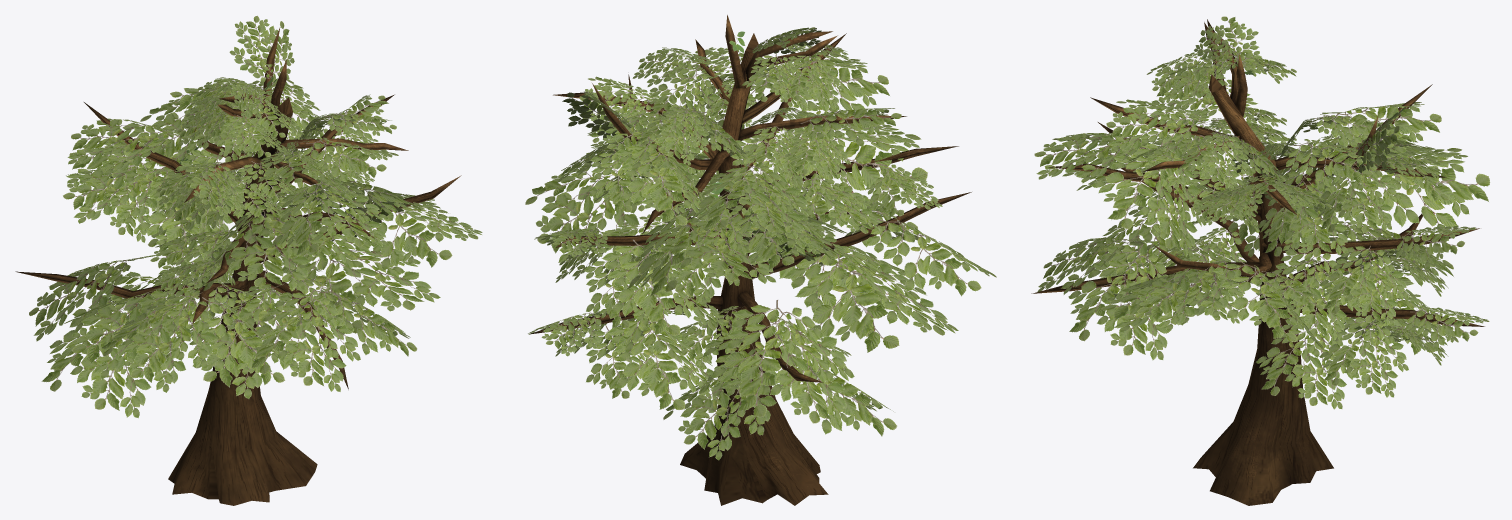
The model's file is tree_01.FBX.
3 views of the same model, side by side, from view 1: azimuth 30°, elevation 25°; view 2: azimuth 150°, elevation 25°; view 3: azimuth 270°, elevation 25° (orthographic). The views are drawn at different scales.
Visible parts, largest first — view 1: Object053, trunk_low; view 2: Object053, trunk_low; view 3: Object053, trunk_low.
Boxes of the visible parts, x1=… form: Object053: x1=29, y1=15, x2=482, y2=418; trunk_low: x1=15, y1=27, x2=461, y2=505; Object053: x1=525, y1=27, x2=996, y2=460; trunk_low: x1=530, y1=15, x2=971, y2=505; Object053: x1=1034, y1=16, x2=1490, y2=409; trunk_low: x1=1031, y1=19, x2=1484, y2=505.
Size of the model in its own units: 407 by 415 by 427.
